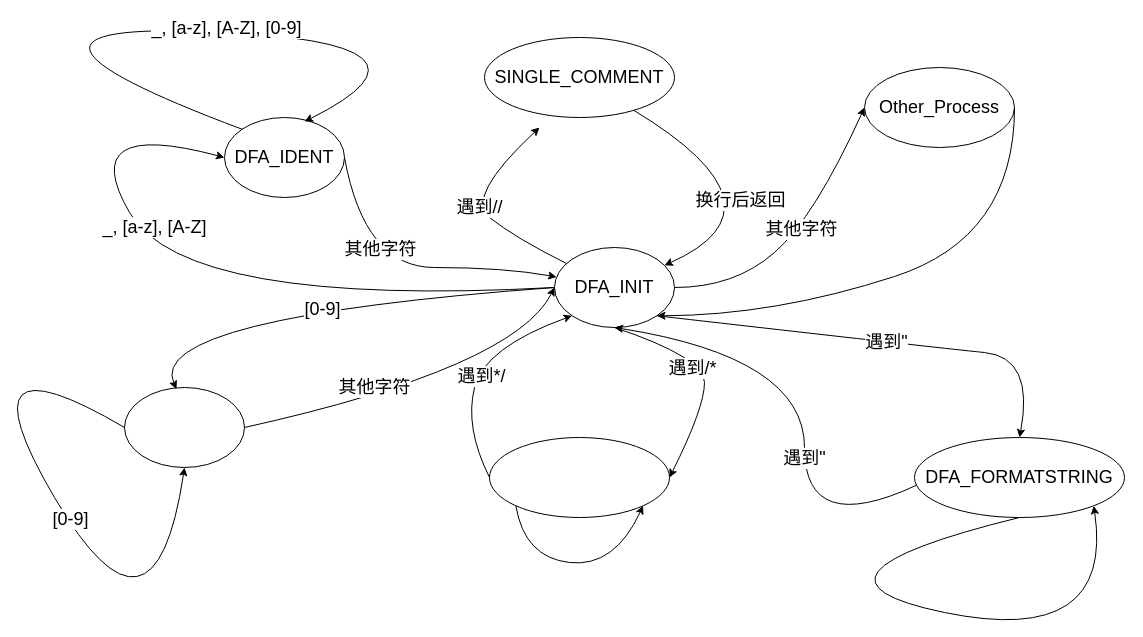
Some shapes in this 1143 by 637 pixel diagram are drawn without their labels. The shapes that lost their labels are listed below. From the top down, each one's centre as x and y in pixels, then its label:
At (184,427): "DFA_INTCON".
At (579,477): "MULTI_COMMENT".
